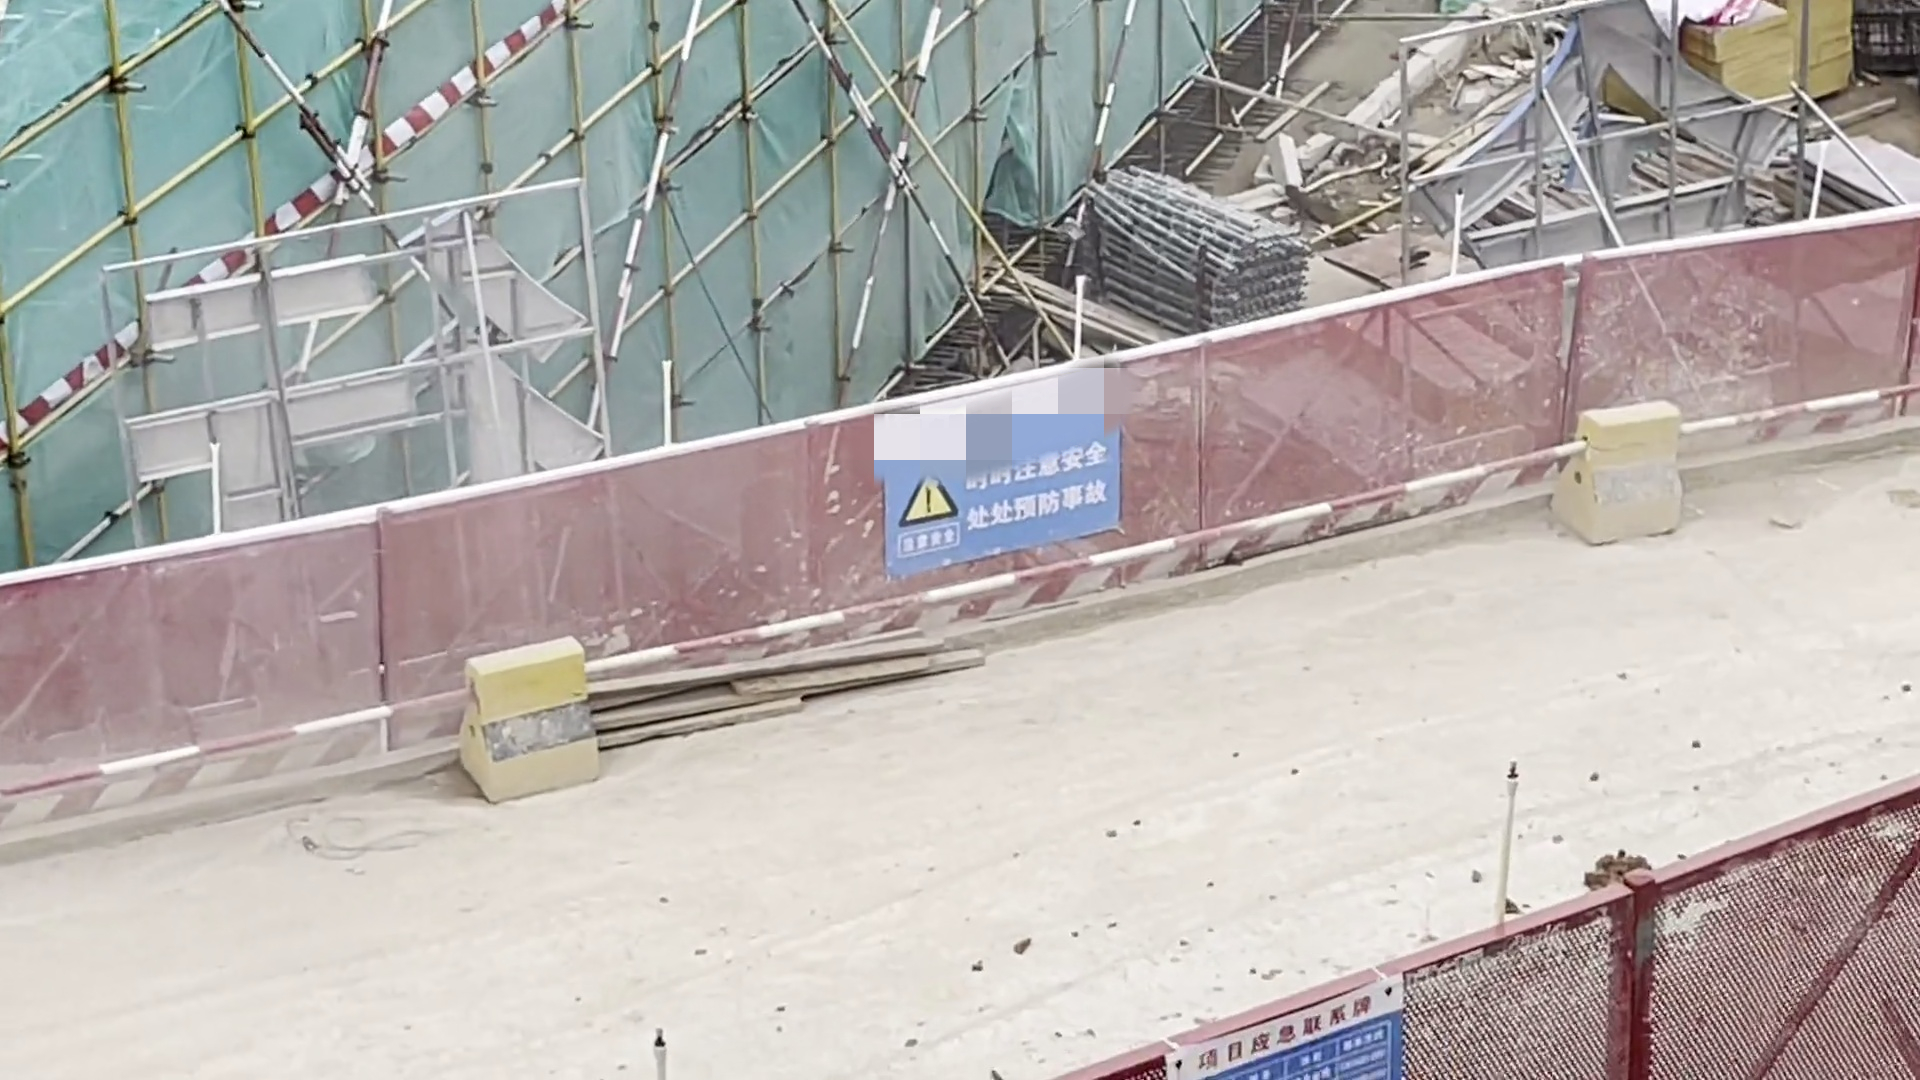fence: (24, 272, 1920, 653)
scaffold: (1102, 164, 1313, 331)
slogan: (880, 434, 1135, 553)
